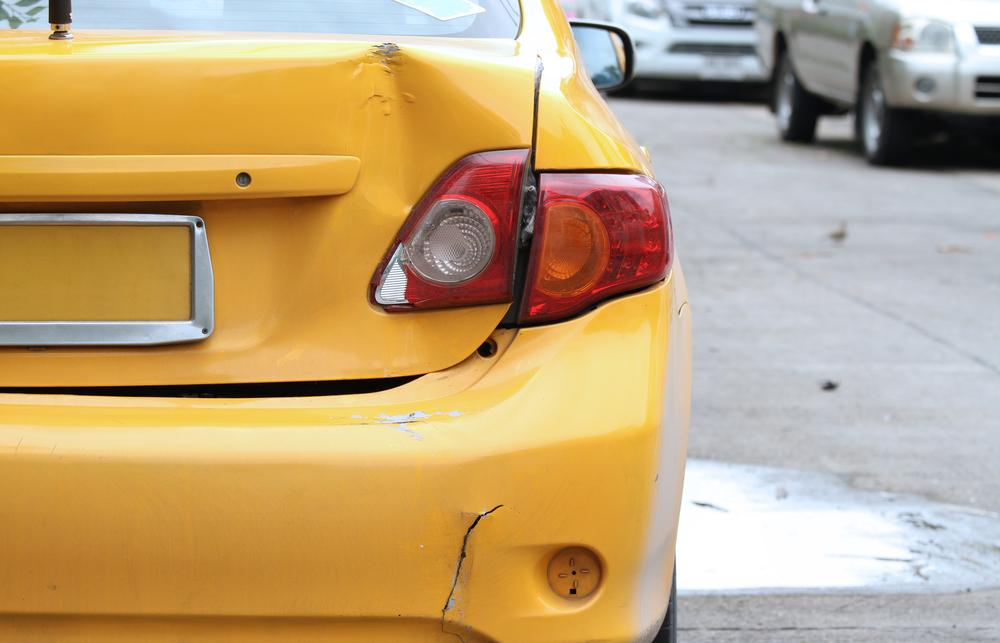crack: (440, 504, 522, 643)
dent: (330, 45, 521, 213)
lamp broken: (370, 145, 532, 311)
